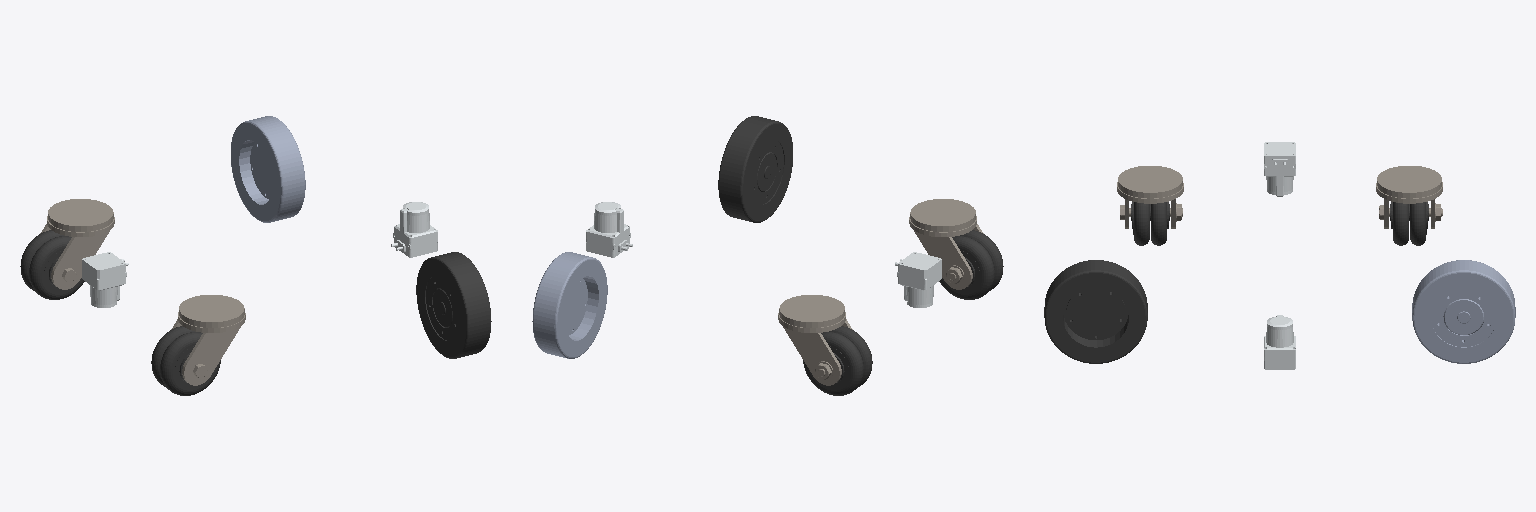
robot.urdf — coach_nanny_robot:
<?xml version="1.0" encoding="utf-8"?>
<!-- This URDF was automatically created by SolidWorks to URDF Exporter! Originally created by [author] ([email redacted])
     Commit Version: 1.6.0-1-g15f4949  Build Version: 1.6.7594.29634
     For more information, please see http://wiki.ros.org/sw_urdf_exporter -->
<robot name="coach_nanny_robot">
  <link name="base_link">
    <inertial>
      <origin xyz="0.0238969108524964 0.0064934223239613 0.20470967877878" rpy="0 0 0" />
      <mass value="26.1616258468403" />
      <inertia ixx="0.513743502176987" ixy="2.06390204030682E-05" ixz="-6.60339277193219E-07" iyy="0.519407745009906" iyz="7.56228723385907E-07" izz="0.903442693992377" />
    </inertial>
    <visual>
      <origin xyz="0 0 0" rpy="0 0 0" />
      <geometry>
        <mesh filename="package://nanny_description/meshes/base_link.STL" />
      </geometry>
      <material name="">
        <color rgba="0.647058823529412 0.619607843137255 0.588235294117647 1" />
      </material>
    </visual>
    <collision>
      <origin xyz="0 0 0" rpy="0 0 0" />
      <geometry>
        <mesh filename="package://nanny_description/meshes/base_link.STL" />
      </geometry>
    </collision>
  </link>
  <link name="right_wheel">
    <inertial>
      <origin xyz="2.35244231702736E-06 -0.00285205665217148 -2.76396645205318E-06" rpy="0 0 0" />
      <mass value="0.844079114777032" />
      <inertia ixx="0.00130632522786826" ixy="1.96746275377505E-09" ixz="-1.02935065598183E-07" iyy="0.00241733989203521" iyz="-3.47791699410318E-09" izz="0.00130617833749495" />
    </inertial>
    <visual>
      <origin xyz="0 0 0" rpy="0 0 0" />
      <geometry>
        <mesh filename="package://nanny_description/meshes/right_wheel.STL" />
      </geometry>
      <material name="">
        <color rgba="0.298039215686275 0.298039215686275 0.298039215686275 1" />
      </material>
    </visual>
    <collision>
      <origin xyz="0 0 0" rpy="1.54 0 0" />
      <geometry>
        <cylinder radius="0.08" length="0.03175"/>
      </geometry>
    </collision>
  </link>
  <joint name="base_link_right_wheel" type="continuous">
    <origin xyz="0.17336 -0.27871 0.048701" rpy="0 0 0" />
    <parent link="base_link" />
    <child link="right_wheel" />
    <axis xyz="0 1 0" />
  </joint>
  <link name="left_wheel">
    <inertial>
      <origin xyz="-2.35244231702736E-06 0.00285205665217148 -2.7639664520393E-06" rpy="0 0 0" />
      <mass value="0.844079114777031" />
      <inertia ixx="0.00130632522786826" ixy="1.96746275303789E-09" ixz="1.02935065598115E-07" iyy="0.0024173398920352" iyz="3.47791699410444E-09" izz="0.00130617833749495" />
    </inertial>
    <visual>
      <origin xyz="0 0 0" rpy="0 0 0" />
      <geometry>
        <mesh filename="package://nanny_description/meshes/left_wheel.STL" />
      </geometry>
      <material name="">
        <color rgba="0.666666666666667 0.698039215686274 0.768627450980392 1" />
      </material>
    </visual>
    <collision>
      <origin xyz="0 0 0" rpy="-1.54 0 0" />
      <geometry>
        <cylinder radius="0.08" length="0.03175"/>
      </geometry>
    </collision>
  </link>
  <joint name="base_link_left_wheel" type="continuous">
    <origin xyz="0.173356333637394 0.27870625 0.0487011859215695" rpy="0 0 0" />
    <parent link="base_link" />
    <child link="left_wheel" />
    <axis xyz="0 1 0" />
  </joint>
  <link name="right_swivel">
    <inertial>
      <origin xyz="-0.0107952142667258 0.000480178041647072 -0.0226672825074409" rpy="0 0 0" />
      <mass value="1.62791183303881" />
      <inertia ixx="0.00221717689141458" ixy="-6.43720832210226E-12" ixz="-0.000516741659274806" iyy="0.00198478866521882" iyz="-9.79370947643036E-13" izz="0.00236896166493278" />
    </inertial>
    <visual>
      <origin xyz="0 0 0" rpy="0 0 0" />
      <geometry>
        <mesh filename="package://nanny_description/meshes/right_swivel.STL" />
      </geometry>
      <material name="">
        <color rgba="0.647058823529412 0.619607843137255 0.588235294117647 1" />
      </material>
    </visual>
    <collision>
      <origin xyz="0 0 0" rpy="0 0 0" />
      <geometry>
        <mesh filename="package://nanny_description/meshes/right_swivel.STL" />
      </geometry>
    </collision>
  </link>
  <joint name="base_link_right_swivel" type="continuous">
    <origin xyz="-0.1984 -0.1964315 0.0925375" rpy="0 0 0" />
    <parent link="base_link" />
    <child link="right_swivel" />
    <axis xyz="0 0 1" />
  </joint>
  <link name="right_caster">
    <inertial>
      <origin xyz="0 0.000508000000000036 -1.04083408558608E-17" rpy="0 0 0" />
      <mass value="0.470013684691794" />
      <inertia ixx="0.000378325445284186" ixy="5.93554510947243E-21" ixz="1.06710901829001E-20" iyy="0.000538891371757401" iyz="-4.2308434748141E-21" izz="0.000378325445284186" />
    </inertial>
    <visual>
      <origin xyz="0 0 0" rpy="0 0 0" />
      <geometry>
        <mesh filename="package://nanny_description/meshes/right_caster.STL" />
      </geometry>
      <material name="">
        <color rgba="0.298039215686275 0.298039215686275 0.298039215686275 1" />
      </material>
    </visual>
    <collision>
      <origin xyz="0 0 0" rpy="0 0 0" />
      <geometry>
        <mesh filename="package://nanny_description/meshes/right_caster.STL" />
      </geometry>
    </collision>
  </link>
  <joint name="right_swivel_right_caster" type="continuous">
    <origin xyz="-0.04445 -0.000508000000000036 -0.0714375" rpy="0 0 0" />
    <parent link="right_swivel" />
    <child link="right_caster" />
    <axis xyz="0 1 0" />
  </joint>
  <link name="left_swivel">
    <inertial>
      <origin xyz="-0.0107952142667258 0.000480178041647072 -0.0226672825074409" rpy="0 0 0" />
      <mass value="1.62791183303881" />
      <inertia ixx="0.00221717689141458" ixy="-6.43720825937566E-12" ixz="-0.000516741659274806" iyy="0.00198478866521882" iyz="-9.79371026844606E-13" izz="0.00236896166493278" />
    </inertial>
    <visual>
      <origin xyz="0 0 0" rpy="0 0 0" />
      <geometry>
        <mesh filename="package://nanny_description/meshes/left_swivel.STL" />
      </geometry>
      <material name="">
        <color rgba="0.647058823529412 0.619607843137255 0.588235294117647 1" />
      </material>
    </visual>
    <collision>
      <origin xyz="0 0 0" rpy="0 0 0" />
      <geometry>
        <mesh filename="package://nanny_description/meshes/left_swivel.STL" />
      </geometry>
    </collision>
  </link>
  <joint name="base_link_left_swivel" type="continuous">
    <origin xyz="-0.1984 0.1964315 0.0925375" rpy="0 0 0" />
    <parent link="base_link" />
    <child link="left_swivel" />
    <axis xyz="0 0 1" />
  </joint>
  <link name="left_caster">
    <inertial>
      <origin xyz="0 0.000507999999999981 0" rpy="0 0 0" />
      <mass value="0.470013684691794" />
      <inertia ixx="0.000378325445284186" ixy="3.61830274228318E-21" ixz="1.06710901829001E-20" iyy="0.000538891371757401" iyz="-5.17645714725962E-21" izz="0.000378325445284186" />
    </inertial>
    <visual>
      <origin xyz="0 0 0" rpy="0 0 0" />
      <geometry>
        <mesh filename="package://nanny_description/meshes/left_caster.STL" />
      </geometry>
      <material name="">
        <color rgba="0.298039215686275 0.298039215686275 0.298039215686275 1" />
      </material>
    </visual>
    <collision>
      <origin xyz="0 0 0" rpy="0 0 0" />
      <geometry>
        <mesh filename="package://nanny_description/meshes/left_caster.STL" />
      </geometry>
    </collision>
  </link>
  <joint name="left_swivel_left_caster" type="continuous">
    <origin xyz="-0.04445 -0.000507999999999981 -0.0714375" rpy="0 0 0" />
    <parent link="left_swivel" />
    <child link="left_caster" />
    <axis xyz="0 -1 0" />
  </joint>
  <link name="front_laser">
    <inertial>
      <mass value="1e-5" />
      <origin xyz="0 0 0" rpy="0 0 0"/>
      <inertia ixx="1e-6" ixy="0" ixz="0" iyy="1e-6" iyz="0" izz="1e-6" />
    </inertial>
    <visual>
      <origin xyz="0 0 0" rpy="0 0 0" />
      <geometry>
        <mesh filename="package://nanny_description/meshes/front_laser.STL" />
      </geometry>
      <material name="">
        <color rgba="0.89804 0.91765 0.92941 1" />
      </material>
    </visual>
    <collision>
      <origin xyz="0 0 0" rpy="0 0 0" />
      <geometry>
        <mesh filename="package://nanny_description/meshes/front_laser.STL" />
      </geometry>
    </collision>
  </link>
  <joint name="base_link_front_laser" type="revolute">
    <origin xyz="0.26865 0 0.043175" rpy="0 0 0" />
    <parent link="base_link" />
    <child link="front_laser" />
    <axis xyz="0 0 1" />
    <limit lower="0" upper="0" effort="0" velocity="0" />
  </joint>
  <link name="rear_laser">
    <inertial>
      <mass value="1e-5" />
      <origin xyz="0 0 0" rpy="0 0 0"/>
      <inertia ixx="1e-6" ixy="0" ixz="0" iyy="1e-6" iyz="0" izz="1e-6" />
    </inertial>
    <visual>
      <origin xyz="0 0 0" rpy="0 0 0" />
      <geometry>
        <mesh filename="package://nanny_description/meshes/rear_laser.STL" />
      </geometry>
      <material name="">
        <color rgba="0.89804 0.91765 0.92941 1" />
      </material>
    </visual>
    <collision>
      <origin xyz="0 0 0" rpy="0 0 0" />
      <geometry>
        <mesh filename="package://nanny_description/meshes/rear_laser.STL" />
      </geometry>
    </collision>
  </link>
  <joint name="base_link_rear_laser" type="revolute">
    <origin xyz="-0.27182 0 0.043175" rpy="0 0 0" />
    <parent link="base_link" />
    <child link="rear_laser" />
    <axis xyz="0 0 1" />
    <limit lower="0" upper="0" effort="0" velocity="0" />
  </joint>

  <transmission name="right_wheel_trans">
    <type>transmission_interface/SimpleTransmission</type>
    <actuator name="right_wheel_motor">
      <mechanicalReduction>1</mechanicalReduction>
    </actuator>
    <joint name="base_link_right_wheel">
      <hardwareInterface>hardware_interface/VelocityJointInterface</hardwareInterface>
    </joint>
  </transmission>

  <transmission name="left_wheel_trans">
    <type>transmission_interface/SimpleTransmission</type>
    <actuator name="left_wheel_motor">
      <mechanicalReduction>1</mechanicalReduction>
    </actuator>
    <joint name="base_link_left_wheel">
      <hardwareInterface>hardware_interface/VelocityJointInterface</hardwareInterface>
    </joint>
  </transmission>

  <gazebo reference="front_laser">
    <sensor type="gpu_ray" name="head_hokuyo_sensor">
      <pose>0 0 0 0 0 0</pose>
      <visualize>true</visualize>
      <update_rate>20</update_rate>
      <ray>
        <scan>
          <horizontal>
            <samples>180</samples>
            <resolution>1</resolution>
            <min_angle>-1.570796</min_angle>
            <max_angle>1.570796</max_angle>
          </horizontal>
        </scan>
        <range>
          <min>0.10</min>
          <max>30.0</max>
          <resolution>0.01</resolution>
        </range>
        <noise>
          <type>gaussian</type>
          <!-- Noise parameters based on published spec for Hokuyo laser
               achieving "+-30mm" accuracy at range < 10m.  A mean of 0.0m and
               stddev of 0.01m will put 99.7% of samples within 0.03m of the true
               reading. -->
          <mean>0.0</mean>
          <stddev>0.01</stddev>
        </noise>
      </ray>
      <plugin name="gazebo_ros_head_hokuyo_controller" filename="libgazebo_ros_gpu_laser.so">
        <topicName>/front_laser_scan</topicName>
        <frameName>odom</frameName>
      </plugin>
    </sensor>
  </gazebo>

  <gazebo>
    <plugin name="gazebo_ros_control" filename="libgazebo_ros_control.so">
      <robotNamespace>/</robotNamespace>
    </plugin>
  </gazebo>

</robot>

--- Render facts (derived) ---
3 views of the same robot in one strip: view 1: azimuth 30°, elevation 25°; view 2: azimuth 150°, elevation 25°; view 3: azimuth 270°, elevation 25° (orthographic).
Robot: coach_nanny_robot — 9 links, 8 joints (2 revolute, 6 continuous); root link base_link; default pose: every joint at zero.
Visible links, largest first — view 1: right_wheel, left_wheel, right_swivel, left_swivel, right_caster, left_caster, rear_laser, front_laser; view 2: left_wheel, right_wheel, left_swivel, right_swivel, left_caster, right_caster, rear_laser, front_laser; view 3: left_wheel, right_wheel, left_swivel, right_swivel, front_laser, rear_laser, right_caster, left_caster.
Link boxes in pixels (x1,y1,x2,y2): right_wheel: (416, 252, 491, 358); left_wheel: (231, 116, 305, 222); right_swivel: (171, 295, 245, 385); left_swivel: (40, 199, 114, 289); right_caster: (151, 326, 220, 395); left_caster: (20, 230, 84, 299); rear_laser: (82, 252, 128, 307); front_laser: (391, 202, 437, 257); left_wheel: (532, 252, 607, 358); right_wheel: (718, 116, 792, 222); left_swivel: (778, 295, 852, 385); right_swivel: (909, 199, 983, 289); left_caster: (803, 326, 872, 395); right_caster: (939, 230, 1003, 299); rear_laser: (895, 252, 941, 307); front_laser: (586, 202, 632, 257); left_wheel: (1412, 260, 1515, 363); right_wheel: (1044, 260, 1147, 363); left_swivel: (1376, 166, 1442, 228); right_swivel: (1117, 166, 1183, 228); front_laser: (1264, 315, 1295, 369); rear_laser: (1264, 142, 1295, 196); right_caster: (1131, 202, 1169, 245); left_caster: (1390, 202, 1428, 245).
Bounding box of the posed robot: 0.5905 × 0.7138 × 0.1564 m (x, y, z).
8 mesh visuals loaded from 9 distinct referenced files (8 binary STL); not drawn: 1 (reference not matched to a file when rendering).
